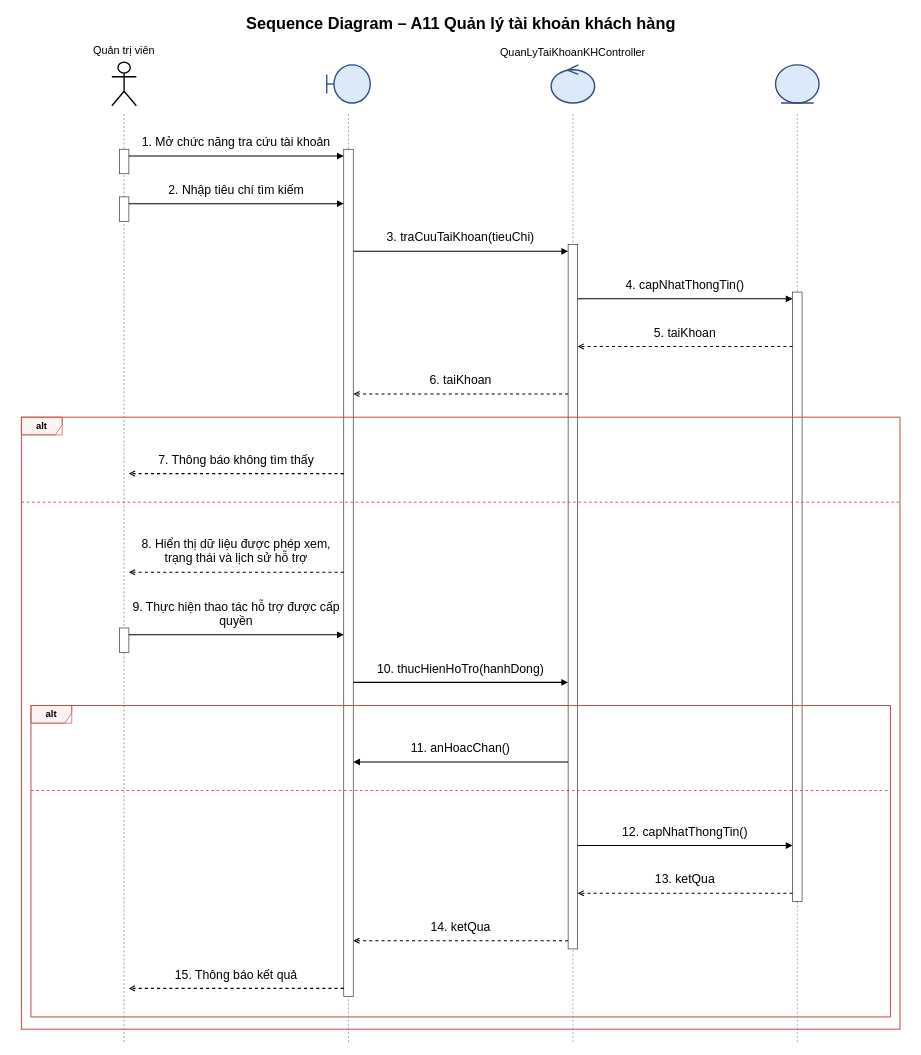
This 921x1055 diagram has some shape labels left out. Here are the shapes that lost their labels. From the top down, the centre of each, then its label:
At pixel 348 83: "QuanLyTaiKhoanKHPage".
At pixel 797 83: "TaiKhoanApple".
